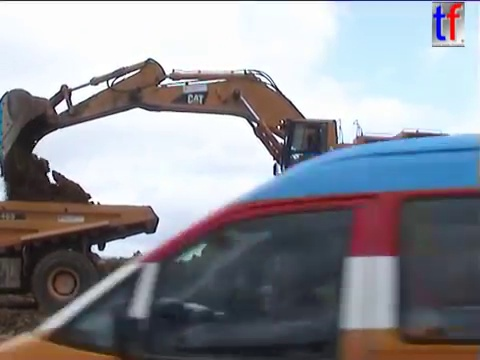excavator: (1, 55, 471, 238)
truck: (1, 197, 163, 319)
